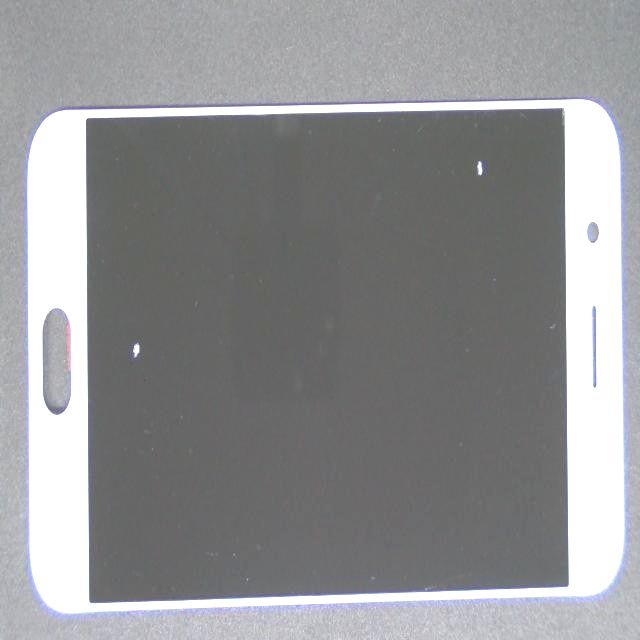stain: (221, 96, 640, 272), (62, 190, 187, 571)
